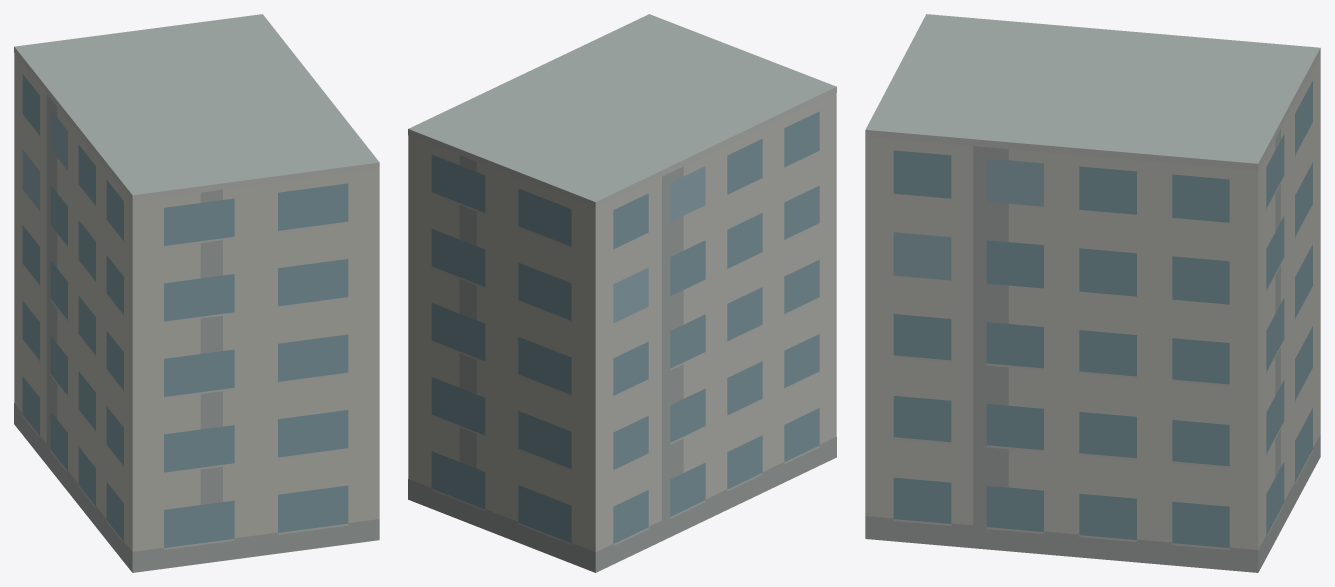
The model's file is survey-upis-33042285.glb.
The picture shows the model from 3 angles, left to right: view 1: azimuth 30°, elevation 25°; view 2: azimuth 150°, elevation 25°; view 3: azimuth 270°, elevation 25°; orthographic projection. The views are drawn at different scales.
Visible parts, largest first — view 1: survey-upis-33042285.tmp; view 2: survey-upis-33042285.tmp; view 3: survey-upis-33042285.tmp.
Boxes of the visible parts, box(x1,y1,x2,y2) form: survey-upis-33042285.tmp: box(14, 14, 379, 572); survey-upis-33042285.tmp: box(408, 14, 836, 572); survey-upis-33042285.tmp: box(865, 14, 1320, 572).
Bounding box in the file's own units: 11.32 × 14.4 × 14.53.
